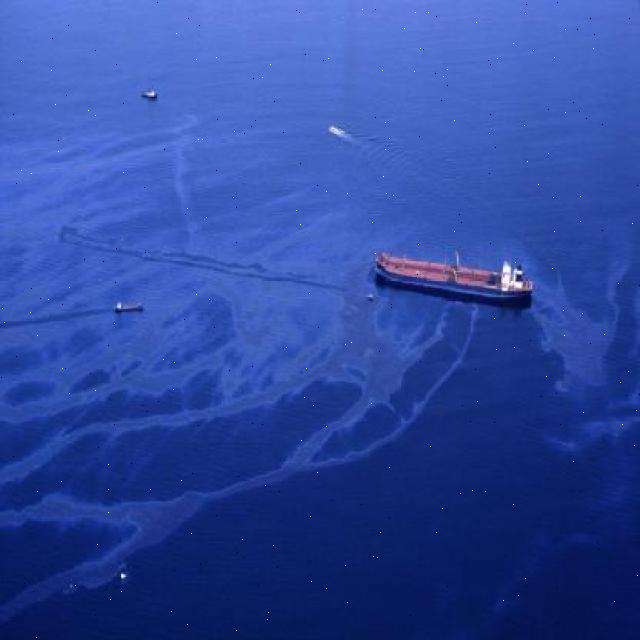oil: (8, 109, 640, 634)
